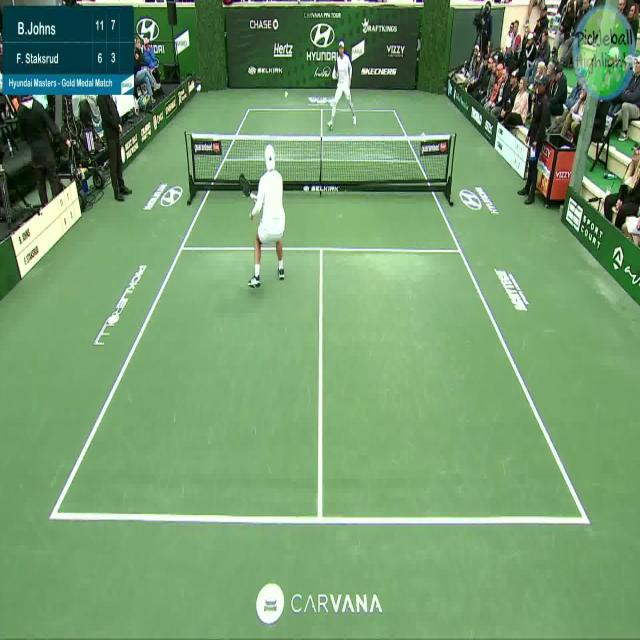ball: (280, 83, 292, 105)
